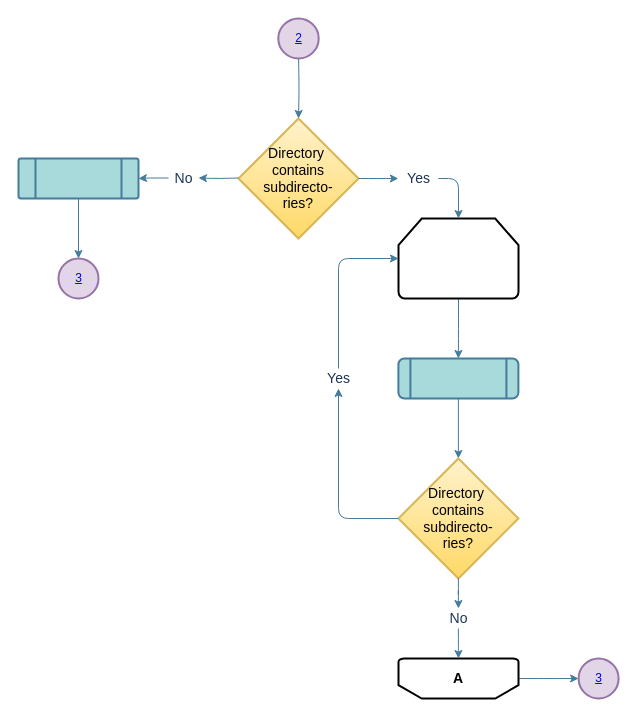
The diagram is 637 pixels wide and 716 high, and some of its shapes have lost their labels. Each missing label, with the centre of its shape:
"A For each subdirectory" belongs at (458,258).
"Files check" belongs at (458,378).
"Log wtiter" belongs at (78,178).
